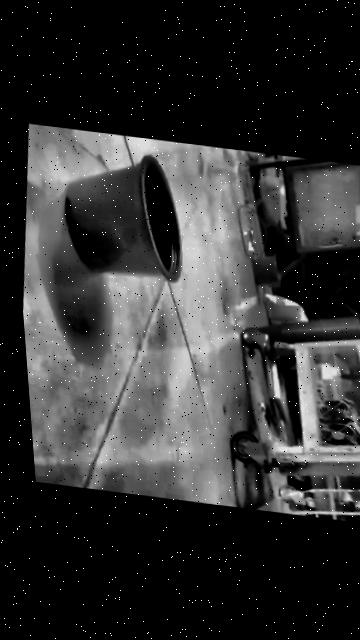pot: (55, 145, 193, 283)
